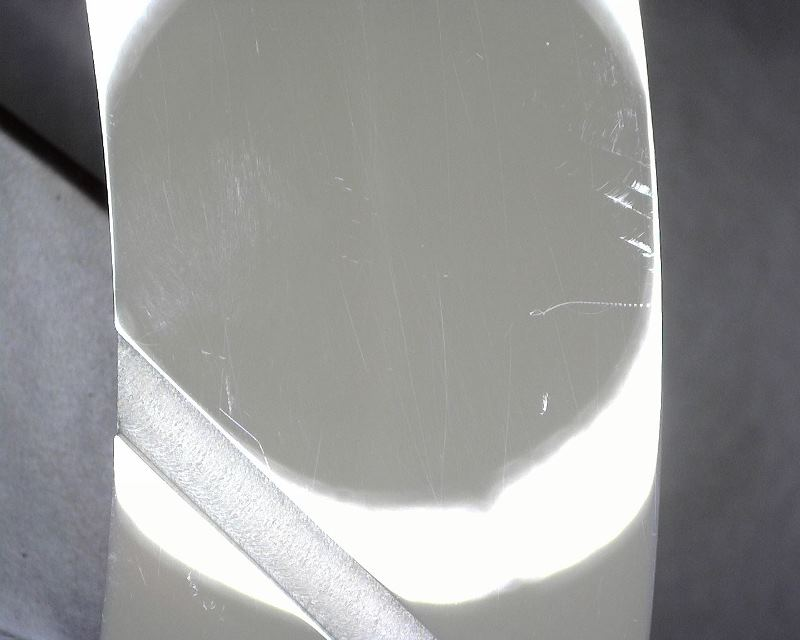scratch: (528, 293, 652, 320), (228, 416, 275, 463), (602, 174, 653, 217), (613, 105, 644, 162), (620, 231, 653, 261), (223, 367, 244, 411), (536, 389, 554, 416)
